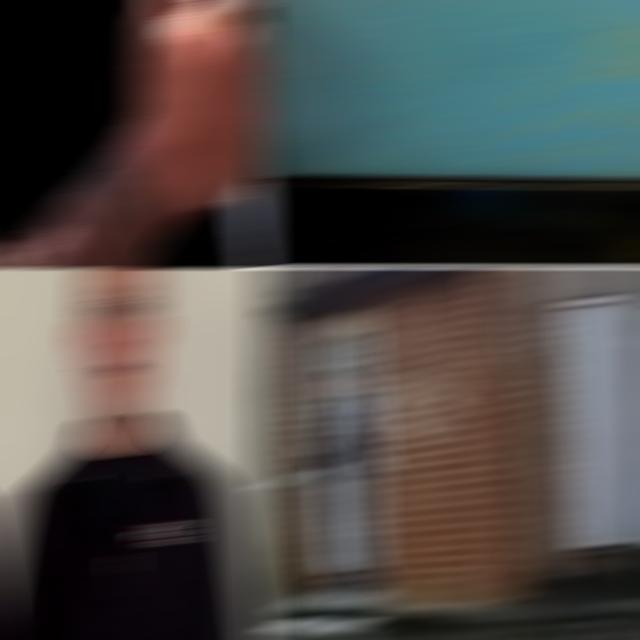Knife_Handle: (131, 0, 270, 268), (300, 443, 339, 468)
